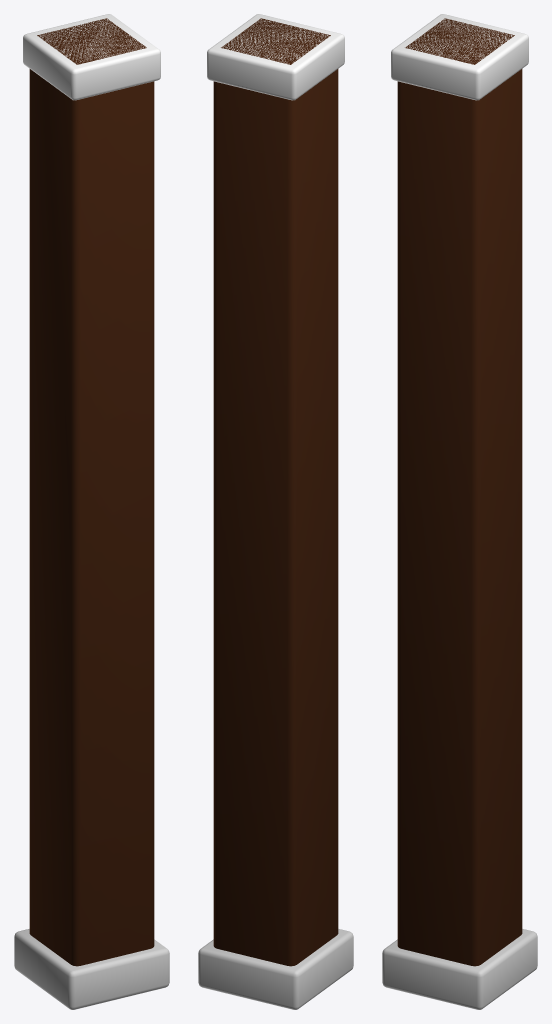
File: corner-post.obj
The picture shows the model from 3 angles, left to right: view 1: azimuth 30°, elevation 25°; view 2: azimuth 150°, elevation 25°; view 3: azimuth 330°, elevation 25°; orthographic projection.
Visible parts, largest first — view 1: corner-post; view 2: corner-post; view 3: corner-post.
Part boxes in pixels (x1,y1,x2,y2): corner-post: [14, 14, 169, 1009]; corner-post: [198, 14, 353, 1009]; corner-post: [382, 14, 537, 1009].
Size of the model in its own units: 0.27 by 2.4 by 0.27.
